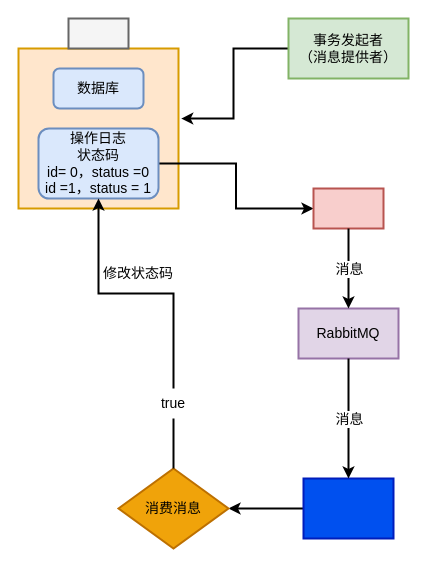
This 426x566 diagram has some shape labels left out. Here are the shapes that lost their labels. From the top down, the centre of each, then its label:
(98,33): 本地事务
(348,208): 定时器
(348,508): 事务参与者（消费者）
